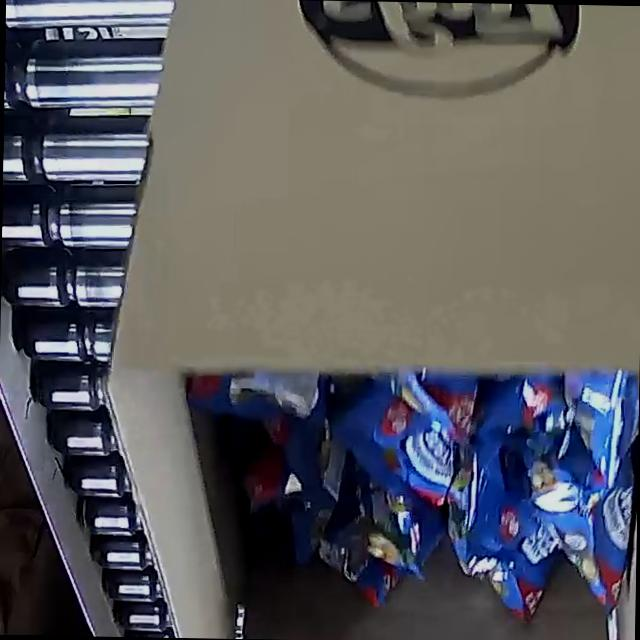paprika: (187, 364, 639, 628)
